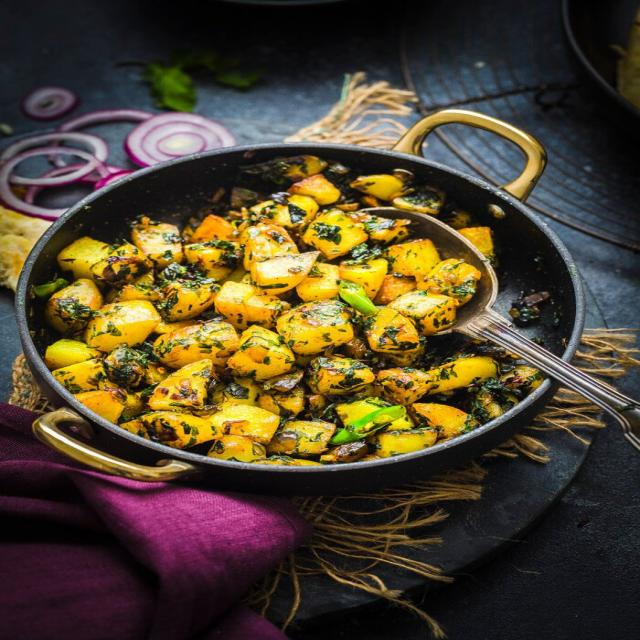Aloo Methi: (35, 154, 547, 466)
